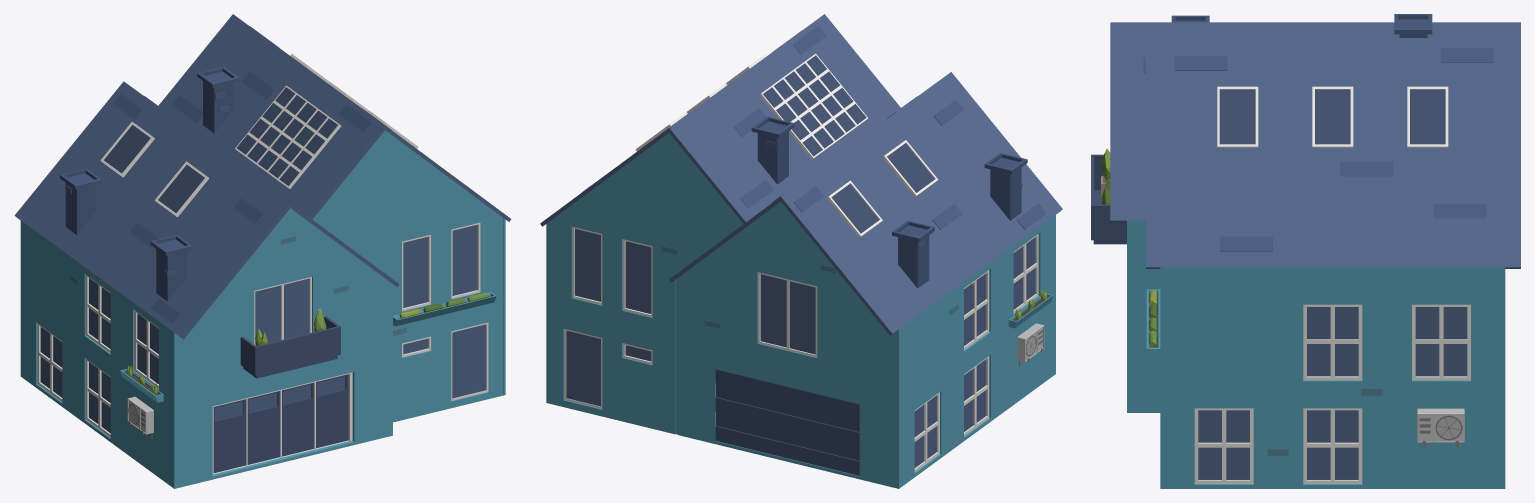
The model's file is house1.glb.
3 renders of one model, left to right at view 1: azimuth 30°, elevation 25°; view 2: azimuth 150°, elevation 25°; view 3: azimuth 270°, elevation 25°, orthographic. The views are drawn at different scales.
Visible parts, largest first — view 1: HC00487945; view 2: HC00487945; view 3: HC00487945.
Part boxes in pixels (x1,y1,x2,y2): HC00487945: [14, 14, 511, 488]; HC00487945: [540, 14, 1062, 488]; HC00487945: [1091, 14, 1520, 488].
Bounding box in the file's own units: 2.22 × 1.78 × 1.84.
